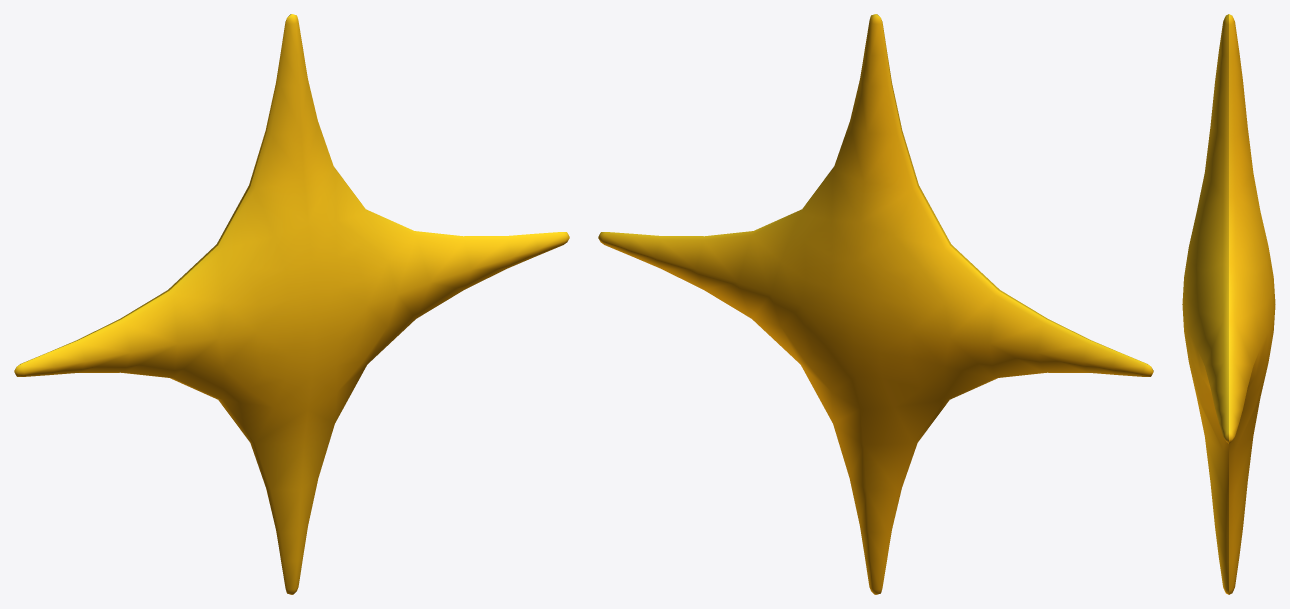
The model's file is SparkleSymbol.fbx.
The picture shows the model from 3 angles, left to right: view 1: azimuth 30°, elevation 25°; view 2: azimuth 150°, elevation 25°; view 3: azimuth 270°, elevation 25°; orthographic projection.
Visible parts, largest first — view 1: SparkleSymbol; view 2: SparkleSymbol; view 3: SparkleSymbol.
Part boxes in pixels (bbox=[...]): SparkleSymbol: bbox=[14, 14, 569, 594]; SparkleSymbol: bbox=[598, 14, 1153, 594]; SparkleSymbol: bbox=[1182, 14, 1275, 594].
Size of the model in its own units: 137 by 137 by 19.87.
Materials: 1 (1 with a texture image).
